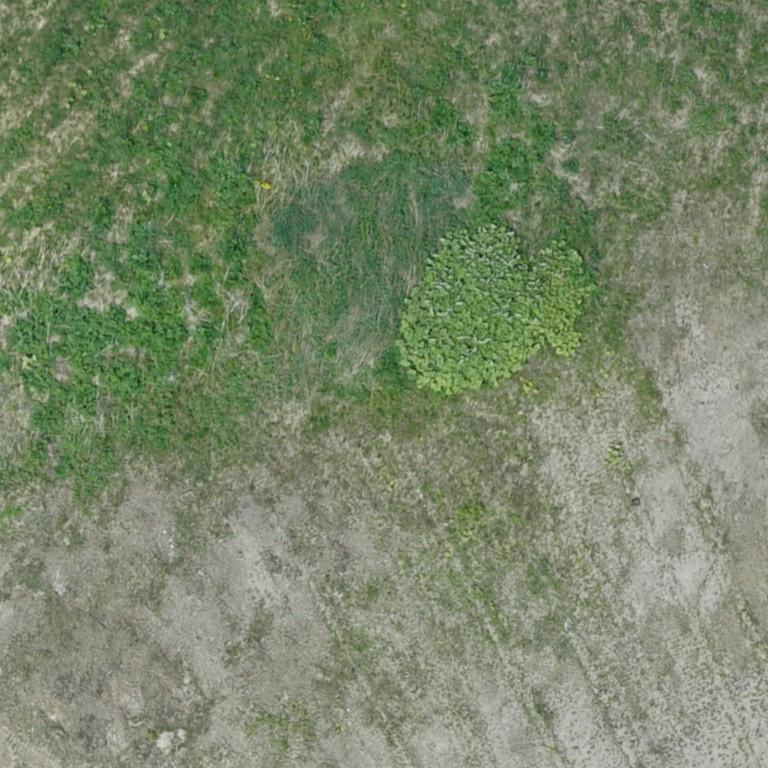hogweed: (10, 248, 186, 435), (475, 94, 554, 217), (110, 132, 201, 215), (209, 146, 254, 205), (432, 100, 477, 145), (248, 288, 269, 350), (224, 236, 244, 285), (193, 275, 220, 308), (197, 324, 214, 365), (90, 201, 111, 232), (190, 252, 213, 272)
